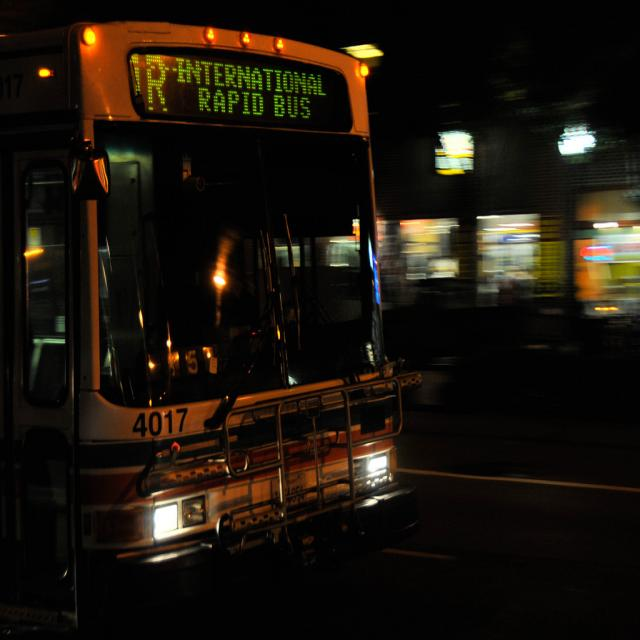Bus: (0, 24, 416, 640), (385, 72, 640, 483)
